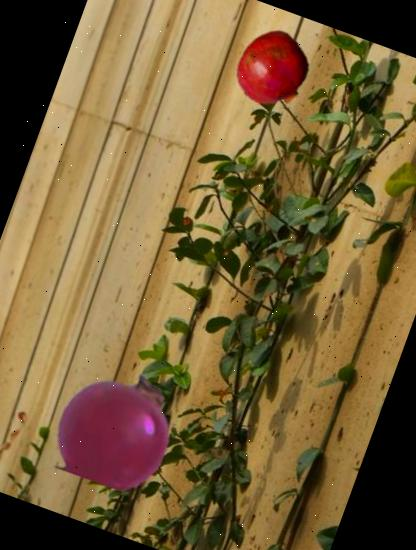Pomegranate: (224, 22, 320, 118)
Redcurrant: (41, 352, 191, 502)
